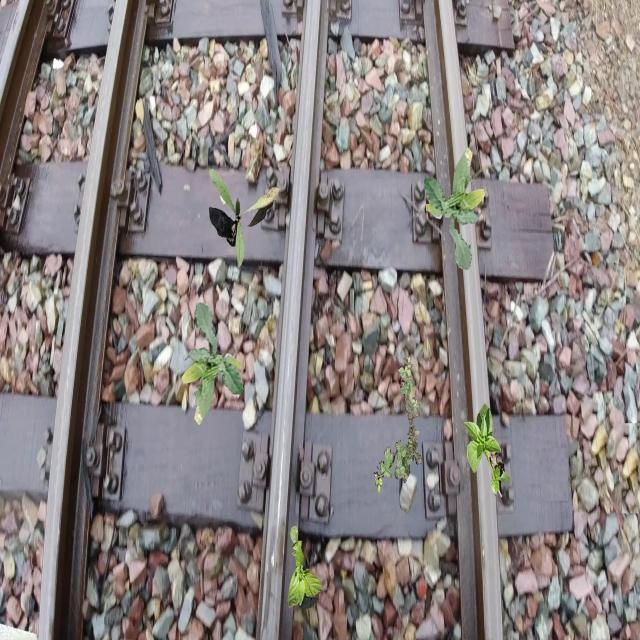Plant: (423, 147, 486, 272), (181, 301, 244, 426), (209, 168, 280, 268), (374, 355, 422, 493), (463, 403, 511, 498), (288, 526, 324, 610)
